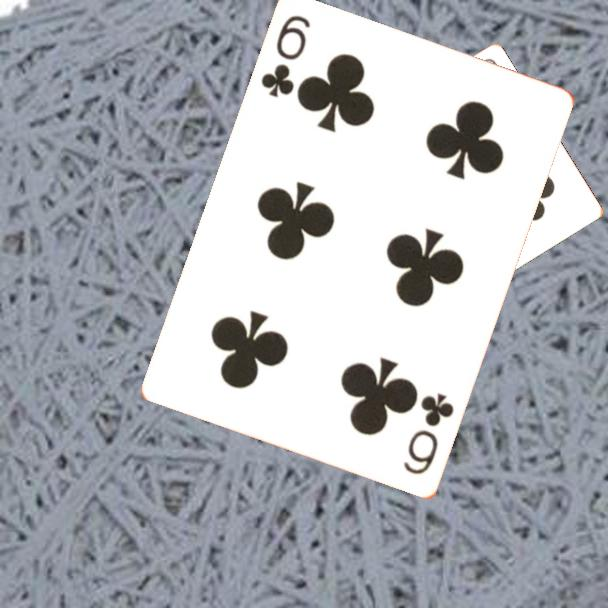c06: (400, 389, 458, 478), (258, 12, 314, 101)
